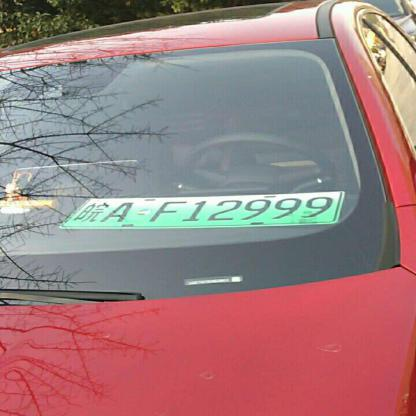lp: (62, 191, 341, 226)
